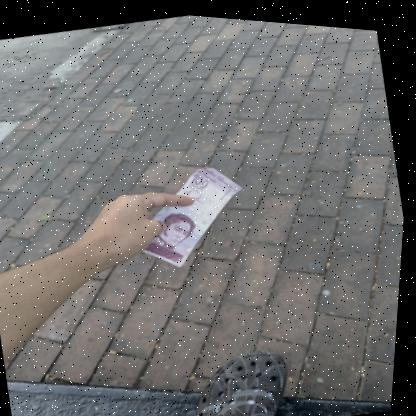one_hundred-front-vef: (127, 150, 261, 276)
